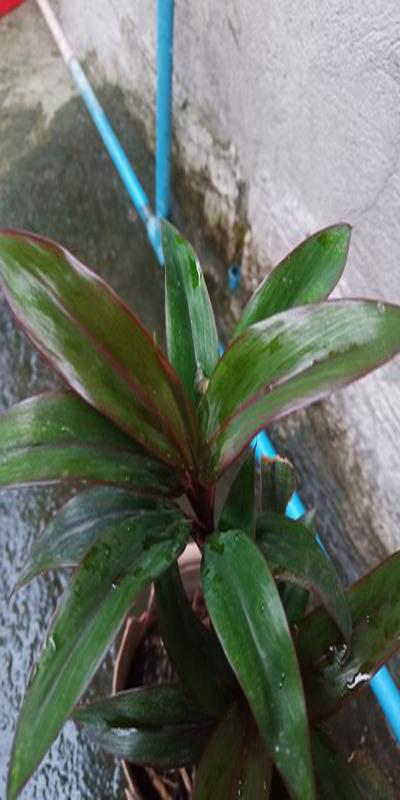Baston de san jose: (9, 236, 373, 766)
